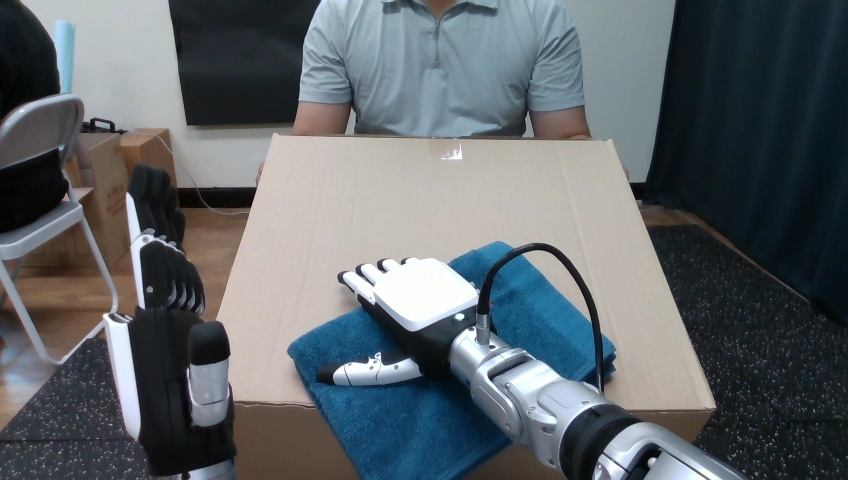left robot arm: (319, 243, 744, 479), (488, 250, 599, 387)
left robot hand: (318, 243, 743, 479), (488, 250, 599, 387)
right robot arm: (318, 243, 743, 479), (488, 250, 599, 387)
right robot hand: (318, 243, 743, 479), (488, 250, 599, 387)
